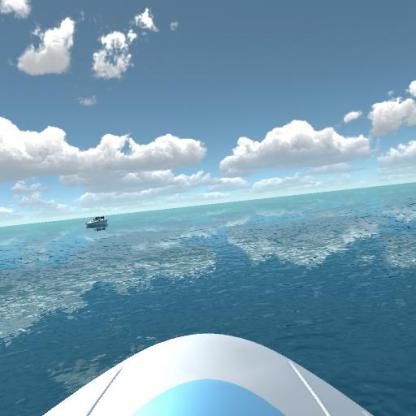usv1: (82, 210, 112, 233)
